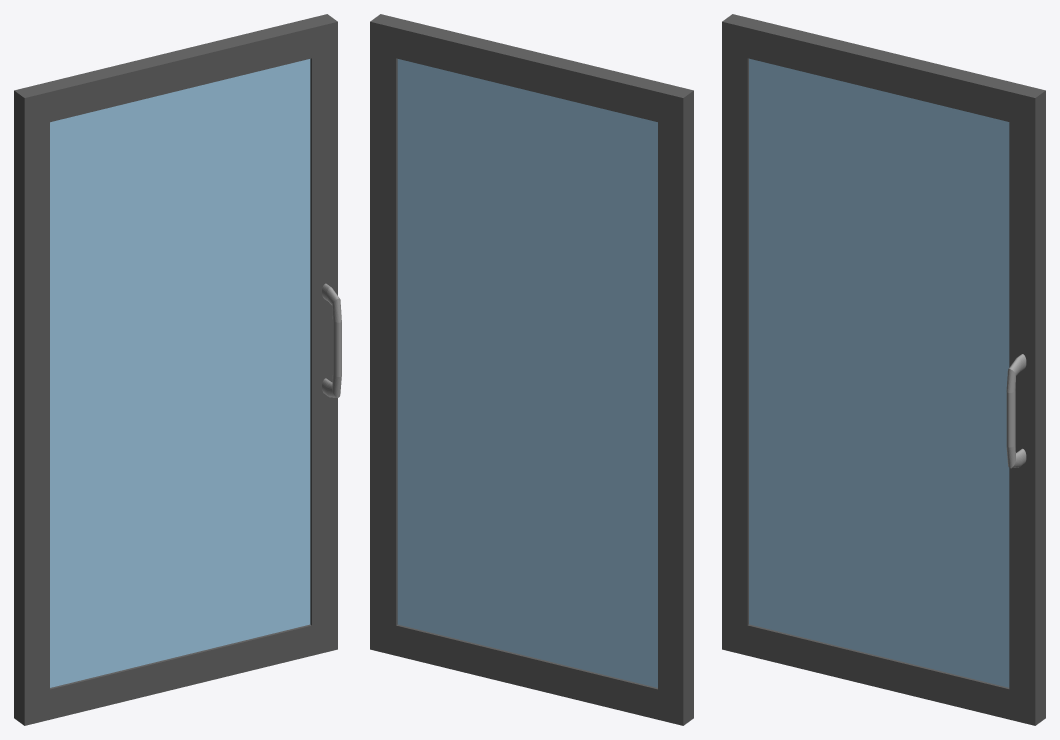
File: Door.fbx
3 renders of one model, left to right at view 1: azimuth 30°, elevation 25°; view 2: azimuth 150°, elevation 25°; view 3: azimuth 330°, elevation 25°, orthographic.
Visible parts, largest first — view 1: door, Cylinder; view 2: door; view 3: door, Cylinder.
Part boxes in pixels (x1,y1,x2,y2): door: (14,14,337,725); Cylinder: (322,283,341,397); door: (370,14,693,725); door: (722,14,1045,725); Cylinder: (1006,354,1026,468).
Size of the model in its own units: 243 by 465 by 33.91.
